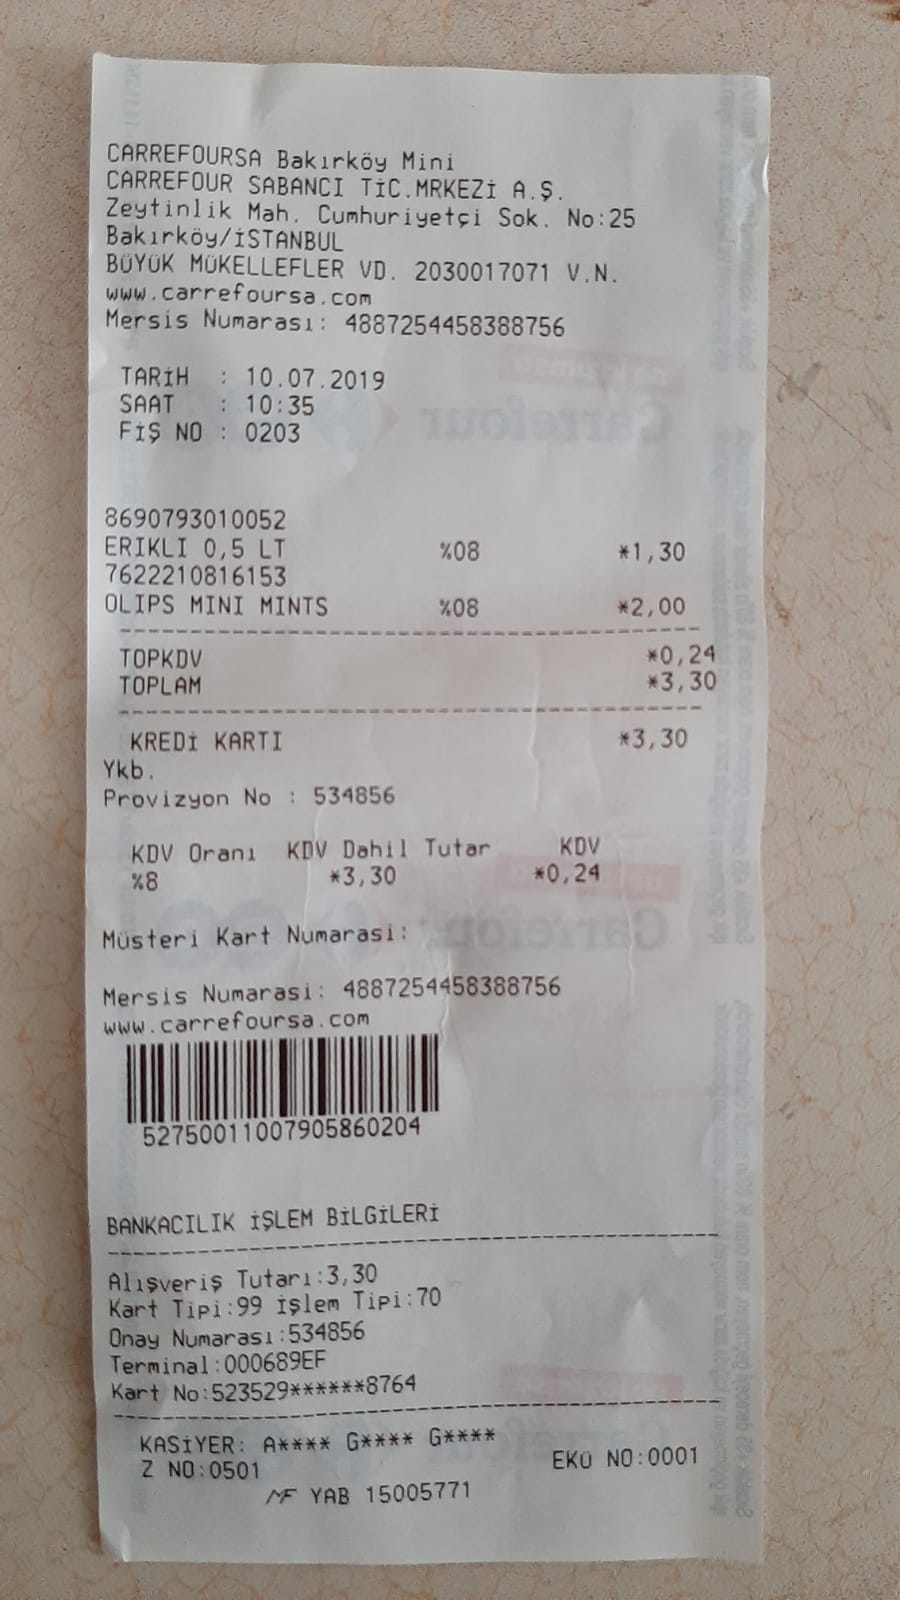total: (120, 667, 724, 699)
